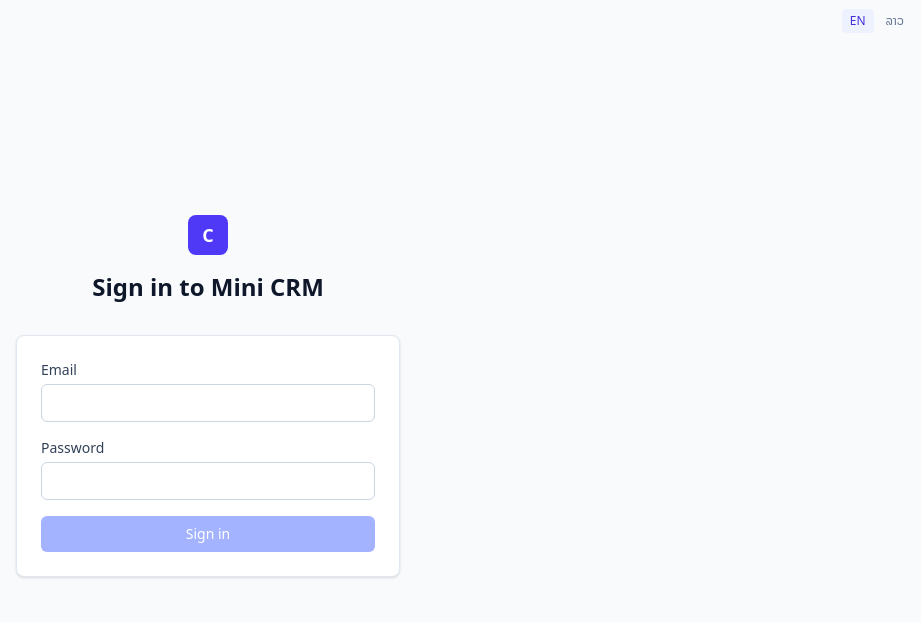
route guard › shows the API error when login fails
Type "x@example.com" into the field labelled "Email".
click(208, 403); type("x@example.com")  # box [41,384,375,422]
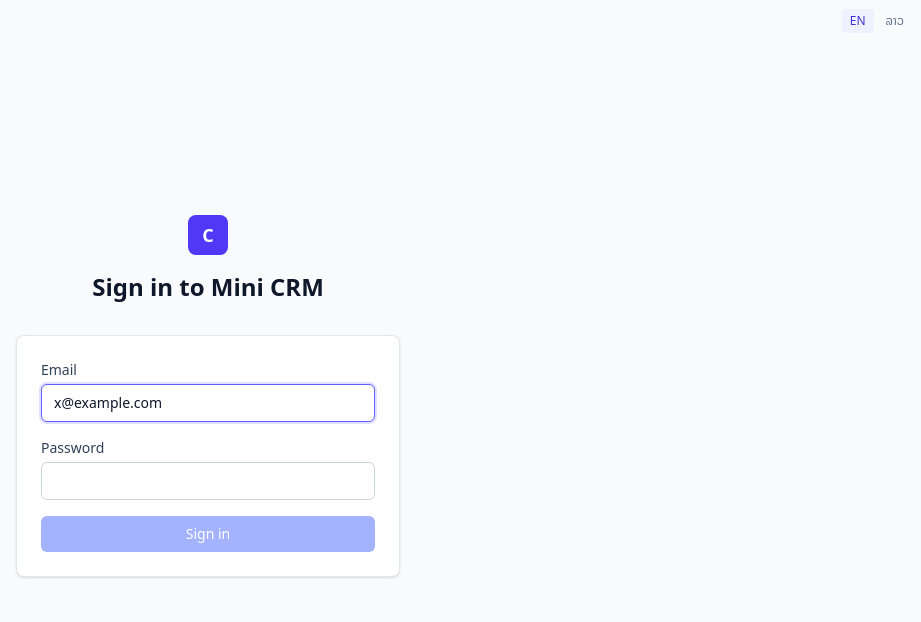
Type "wrong" into the password field labelled "Password".
click(208, 481); type("wrong")  # box [41,462,375,500]
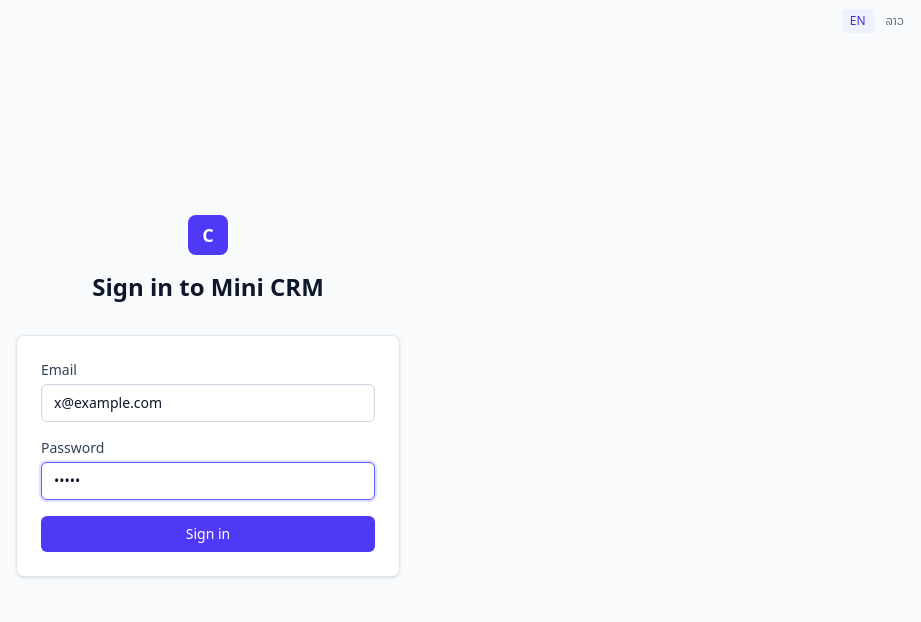
Click the button "Sign in".
click(208, 534)  # box [41,516,375,552]
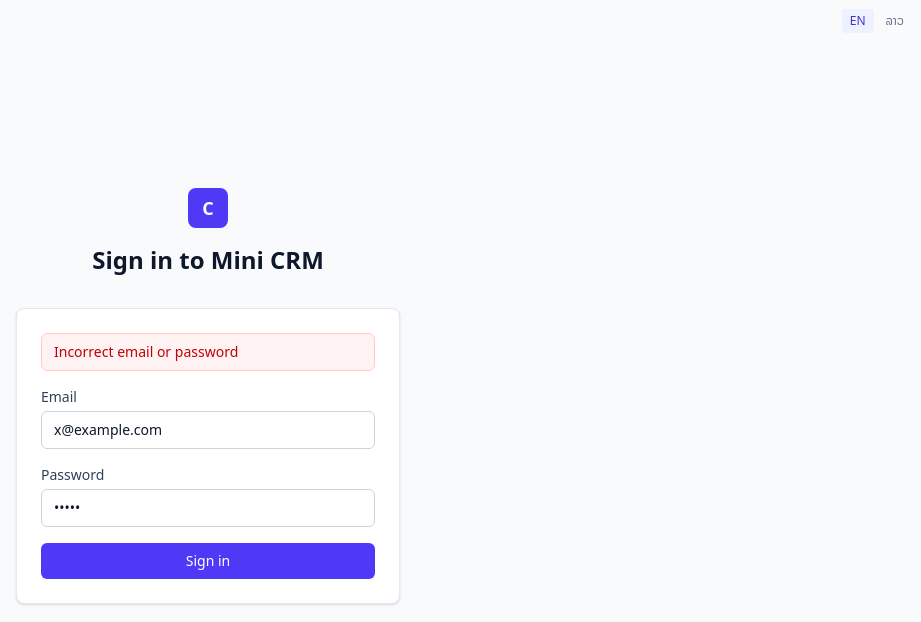
Check: the message reads "Incorrect email or password", box [54,342,238,361]
